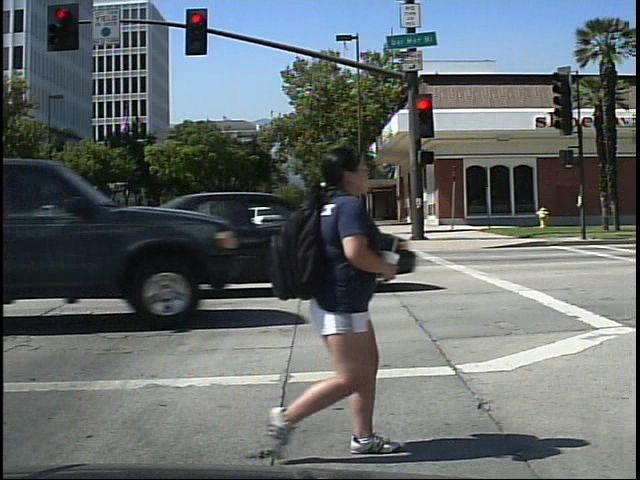person: (266, 132, 399, 464)
